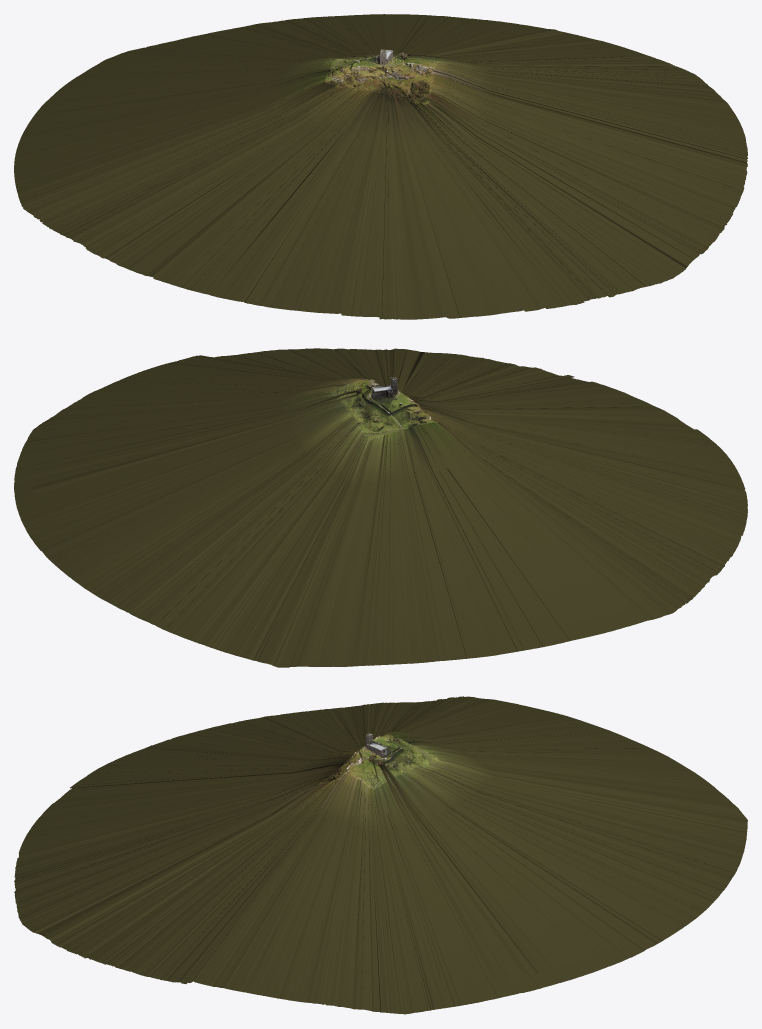
Rendered from brentor.glb.
The picture shows the model from 3 angles, top to bottom: view 1: azimuth 30°, elevation 25°; view 2: azimuth 150°, elevation 25°; view 3: azimuth 270°, elevation 25°; orthographic projection. The views are drawn at different scales.
Parts seen in each view (by area): view 1: model; view 2: model; view 3: model.
Part boxes in pixels (x1,y1,x2,y2): model: (14, 14, 747, 319); model: (14, 348, 747, 667); model: (14, 696, 747, 1014).
Bounding box in the file's own units: 522 × 102 × 511.
Materials: 2 (1 with a texture image).
